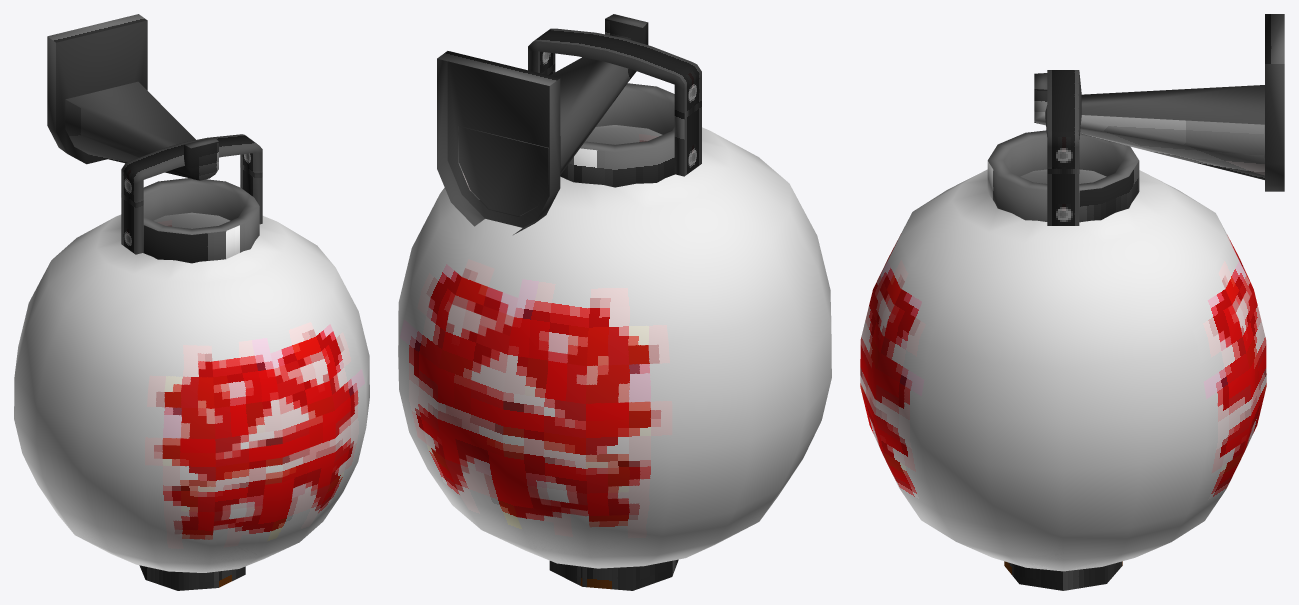
The model's file is rmk_jpn_lantern.dae.
3 renders of one model, left to right at view 1: azimuth 30°, elevation 25°; view 2: azimuth 150°, elevation 25°; view 3: azimuth 270°, elevation 25°, orthographic. The views are drawn at different scales.
Visible parts, largest first — view 1: rmk_jpn_lantern; view 2: rmk_jpn_lantern; view 3: rmk_jpn_lantern.
Boxes of the visible parts, left/top/right/bottom form: rmk_jpn_lantern: left=14, top=14, right=369, bottom=590; rmk_jpn_lantern: left=398, top=14, right=831, bottom=590; rmk_jpn_lantern: left=860, top=14, right=1284, bottom=590.
Size of the model in its own units: 18.61 by 26.95 by 19.69.
Materials: 2 (2 with a texture image).
